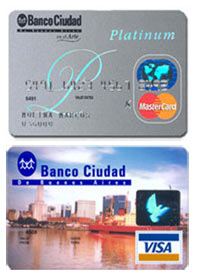tarjeta: (8, 10, 188, 138), (6, 146, 189, 270)
